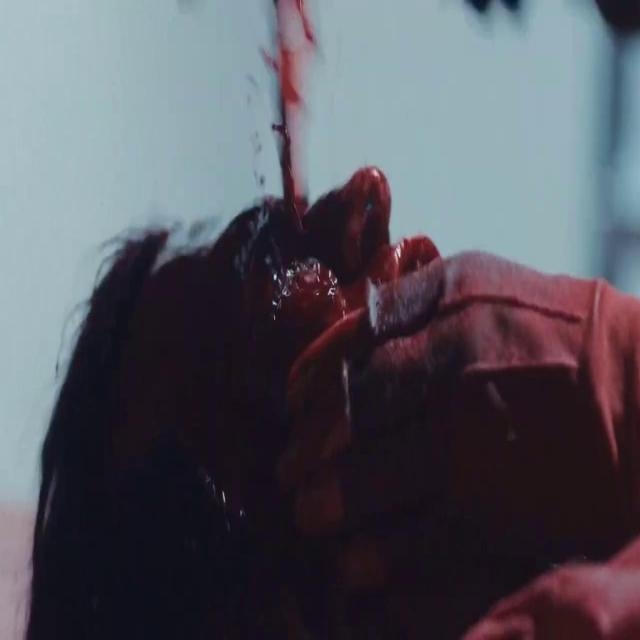flood: (237, 0, 427, 347)
